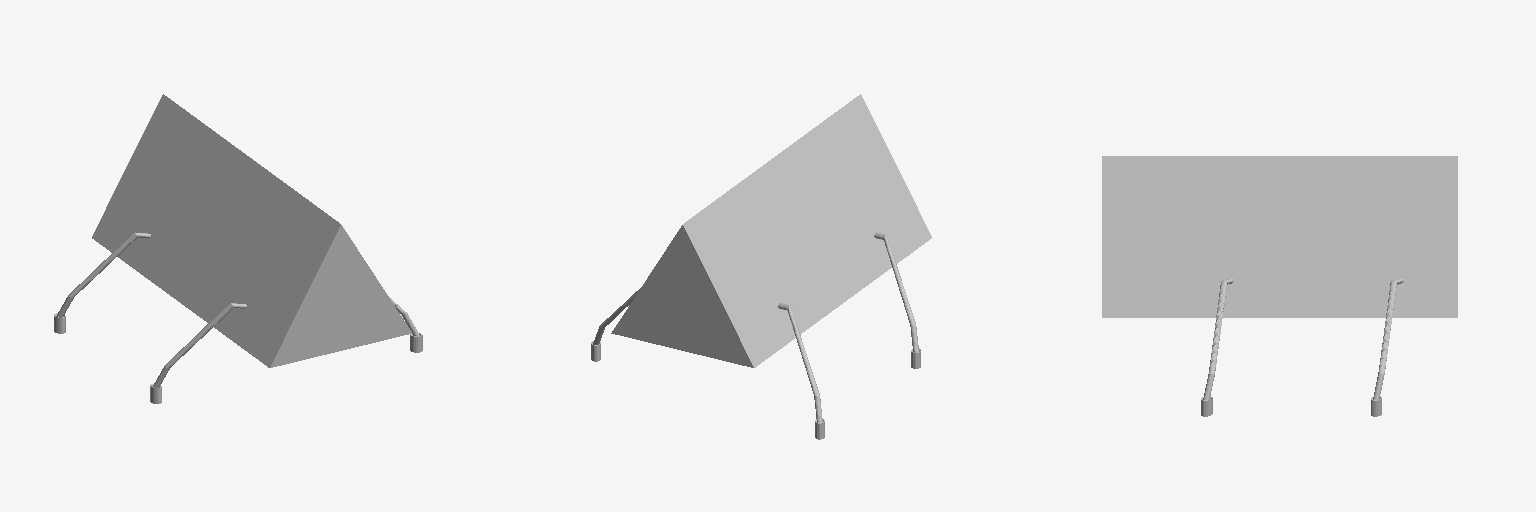
Rendered from tent1.obj.
3 views of the same model, side by side, from view 1: azimuth 30°, elevation 25°; view 2: azimuth 150°, elevation 25°; view 3: azimuth 270°, elevation 25° (orthographic).
Visible parts, largest first — view 1: pCylinder14; view 2: pCylinder14; view 3: pCylinder14.
Part boxes in pixels (x1,y1,x2,y2): pCylinder14: (54,94,422,403); pCylinder14: (591,94,931,439); pCylinder14: (1102,156,1457,416).
Size of the model in its own units: 12.76 by 9.3 by 15.33.